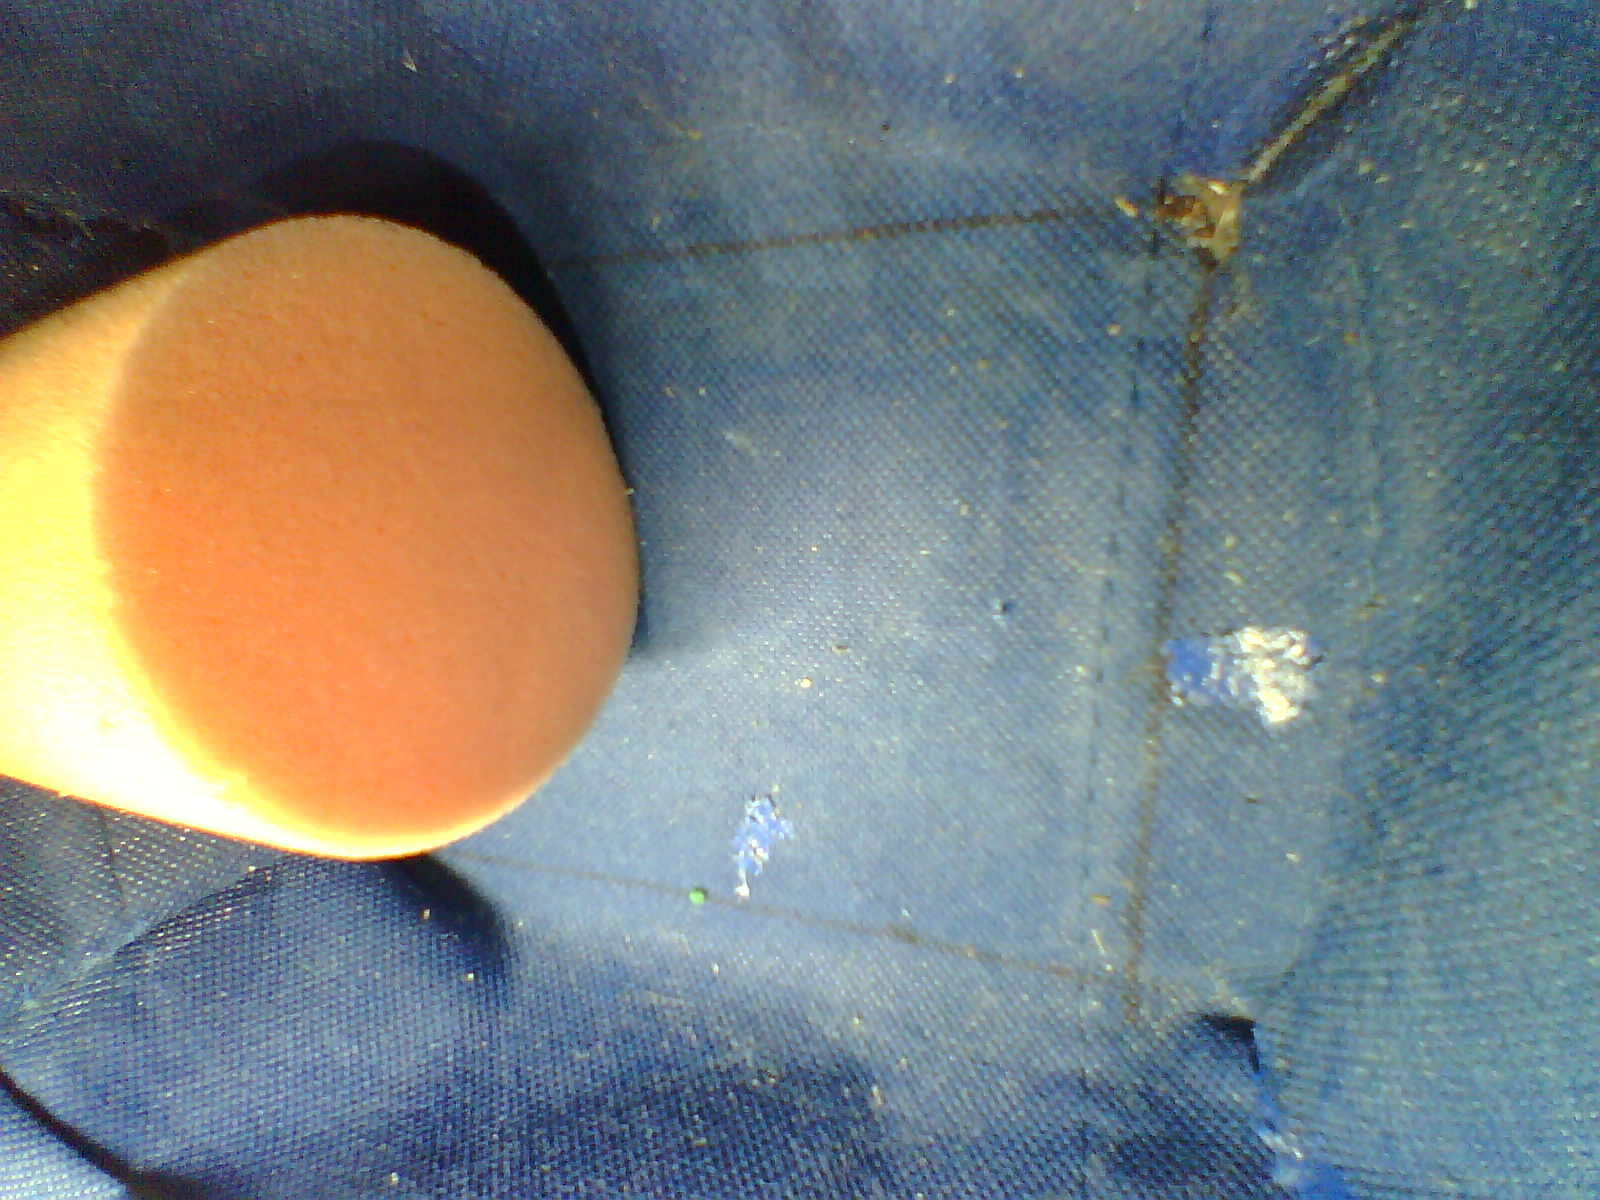cylinder-soft: (0, 195, 646, 884)
